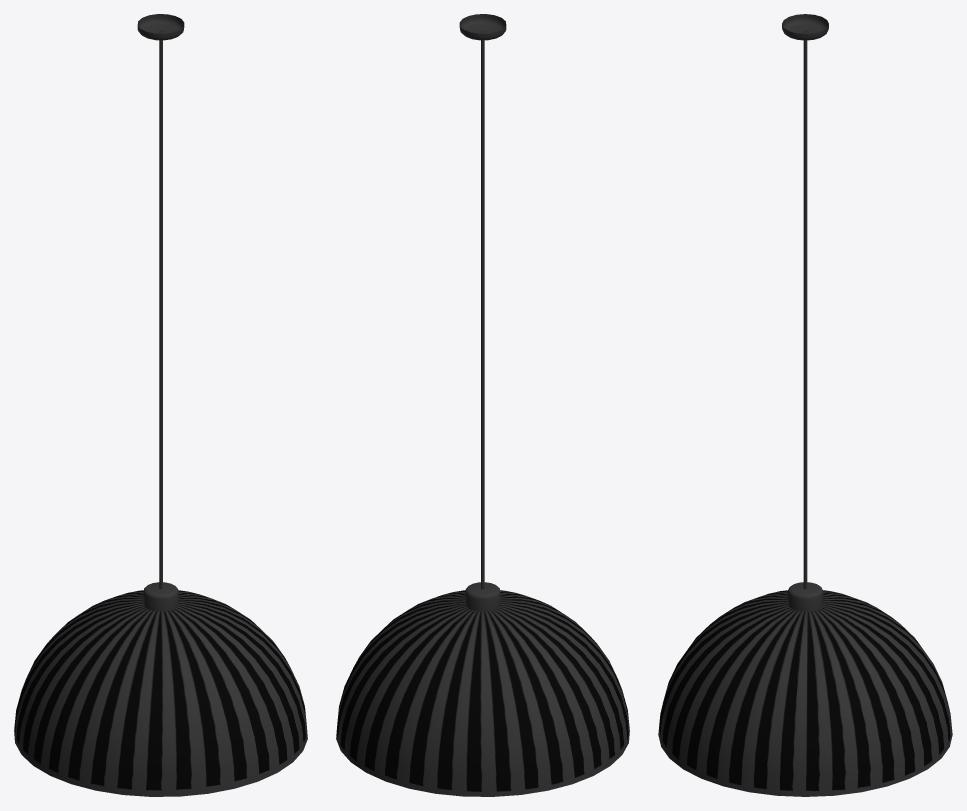
Rendered from hanging lamp.FBX.
The picture shows the model from 3 angles, left to right: view 1: azimuth 30°, elevation 25°; view 2: azimuth 150°, elevation 25°; view 3: azimuth 270°, elevation 25°; orthographic projection.
Parts seen in each view (by area): view 1: hanging lamp; view 2: hanging lamp; view 3: hanging lamp.
Part boxes in pixels (x1=…): hanging lamp: x1=14, y1=14, x2=307, y2=796; hanging lamp: x1=336, y1=14, x2=629, y2=796; hanging lamp: x1=658, y1=14, x2=952, y2=796.
Size of the model in its own units: 21.92 by 21.92 by 58.44.
1 material, 1 textured.
